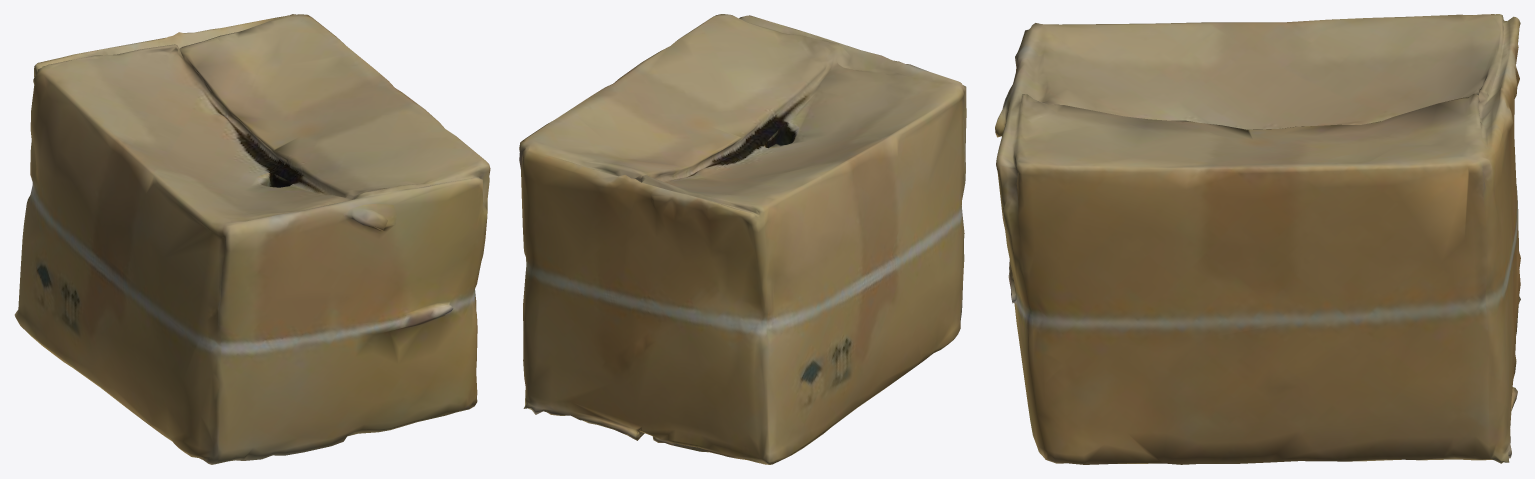
The picture shows the model from 3 angles, left to right: view 1: azimuth 30°, elevation 25°; view 2: azimuth 150°, elevation 25°; view 3: azimuth 270°, elevation 25°; orthographic projection. The views are drawn at different scales.
Visible parts, largest first — view 1: cardboard_box_01; view 2: cardboard_box_01; view 3: cardboard_box_01.
Boxes of the visible parts, x1,y1,x2,y2 form: cardboard_box_01: (14,14,490,464); cardboard_box_01: (519,14,966,464); cardboard_box_01: (995,14,1520,464).
Bounding box in the file's own units: 0.3868 × 0.3418 × 0.5159.
1 material, 1 textured.
